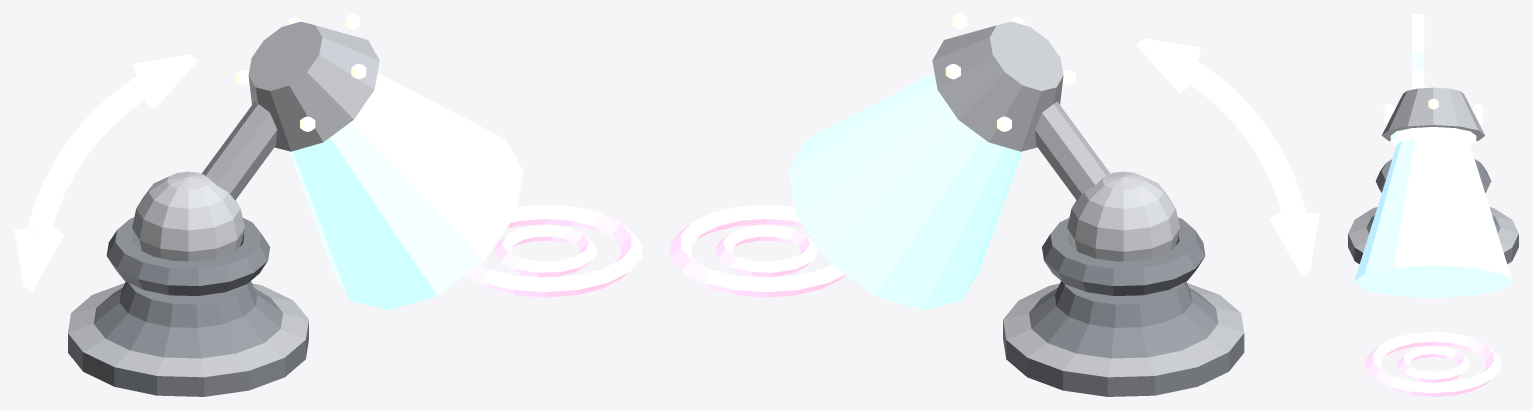
Rendered from item_swivel.glb.
The picture shows the model from 3 angles, left to right: view 1: azimuth 30°, elevation 25°; view 2: azimuth 150°, elevation 25°; view 3: azimuth 270°, elevation 25°; orthographic projection. The views are drawn at different scales.
Parts seen in each view (by area): view 1: item_swivel; view 2: item_swivel; view 3: item_swivel.
Part boxes in pixels (x1=…): item_swivel: x1=14, y1=14, x2=641, y2=396; item_swivel: x1=670, y1=14, x2=1319, y2=396; item_swivel: x1=1348, y1=14, x2=1518, y2=396.
Bounding box in the file's own units: 1.66 × 0.7725 × 0.56.
